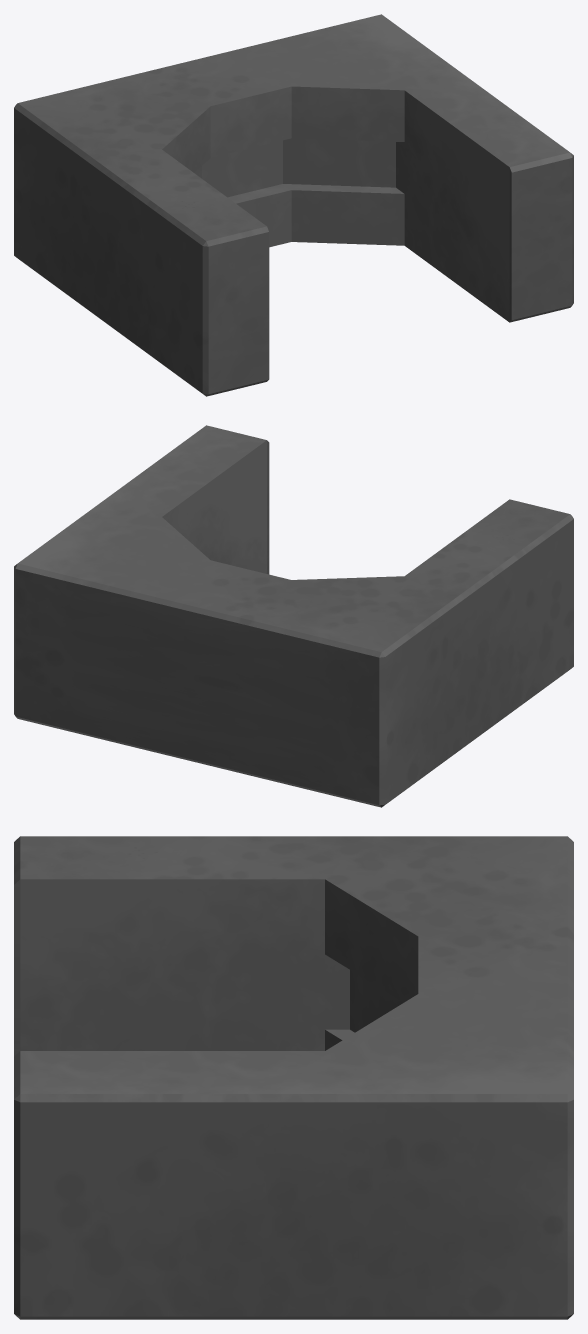
File: Gate_01.fbx
The picture shows the model from 3 angles, top to bottom: view 1: azimuth 30°, elevation 25°; view 2: azimuth 150°, elevation 25°; view 3: azimuth 270°, elevation 25°; orthographic projection. The views are drawn at different scales.
Visible parts, largest first — view 1: Gate_01; view 2: Gate_01; view 3: Gate_01.
Boxes of the visible parts, <box> form: Gate_01: <box>14,14,573,396</box>; Gate_01: <box>14,425,573,807</box>; Gate_01: <box>14,836,573,1319</box>.
Size of the model in its own units: 5 by 2 by 4.5.
1 material, 1 textured.
